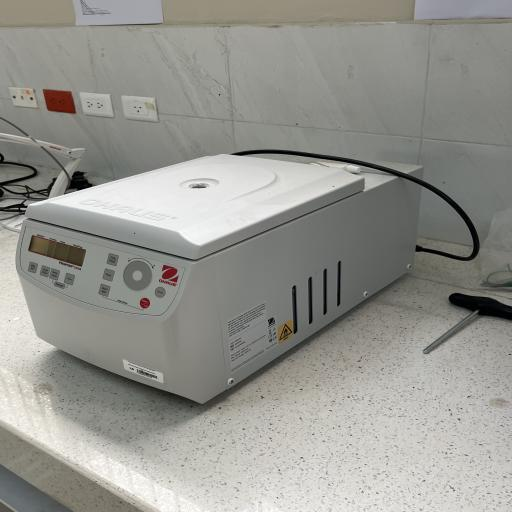Centrifuga_Ohaus_Frontier: (12, 147, 454, 412)
